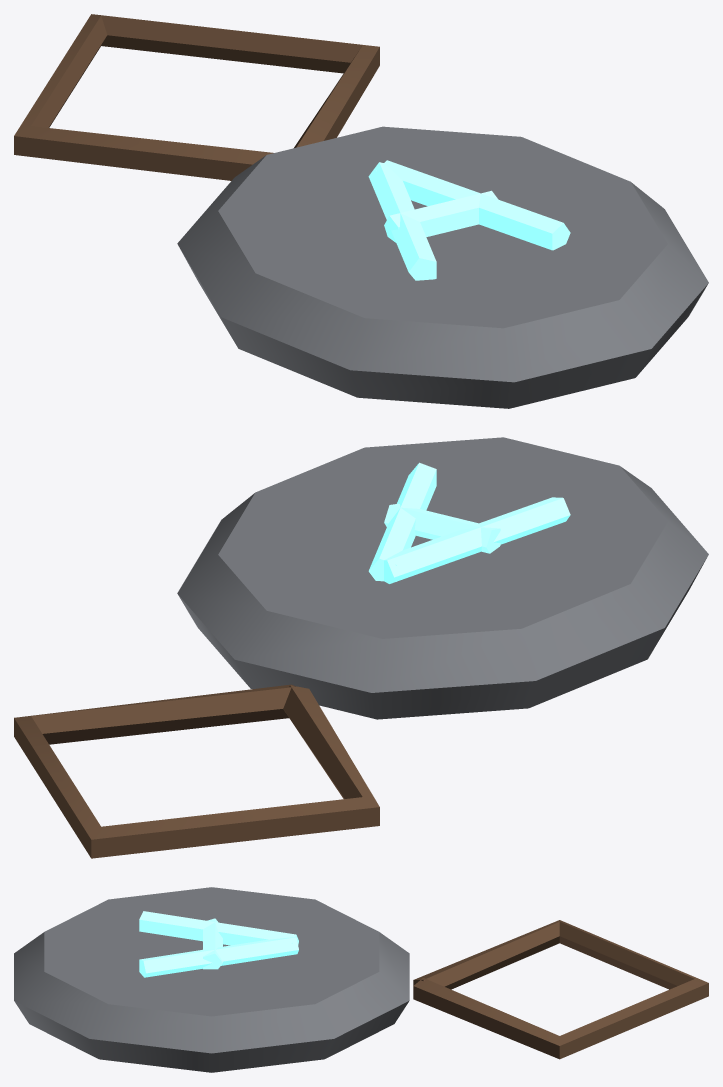
The model's file is rune_charm.glb.
The picture shows the model from 3 angles, top to bottom: view 1: azimuth 30°, elevation 25°; view 2: azimuth 150°, elevation 25°; view 3: azimuth 270°, elevation 25°; orthographic projection. The views are drawn at different scales.
Visible parts, largest first — view 1: rune_charm; view 2: rune_charm; view 3: rune_charm.
Part boxes in pixels (left/top/right/bottom): rune_charm: left=14, top=14, right=708, bottom=408; rune_charm: left=14, top=437, right=708, bottom=858; rune_charm: left=14, top=887, right=708, bottom=1072.
Bounding box in the file's own units: 0.052 × 0.0105 × 0.0999.
